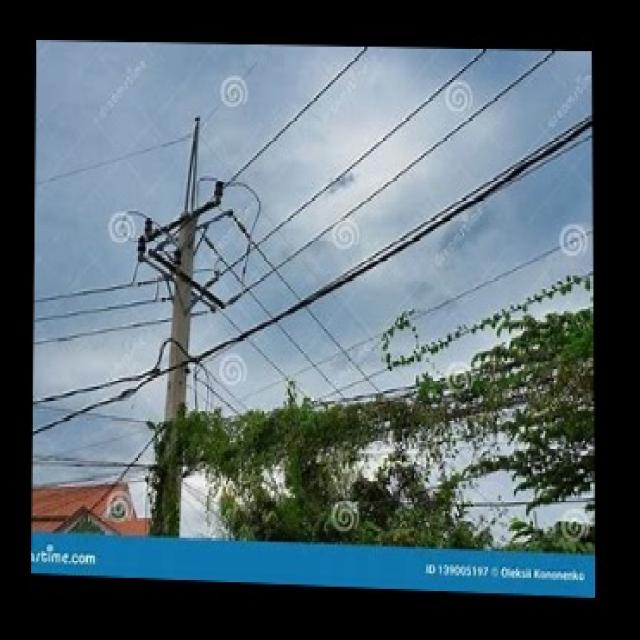critical vegetation: (159, 352, 593, 499)
